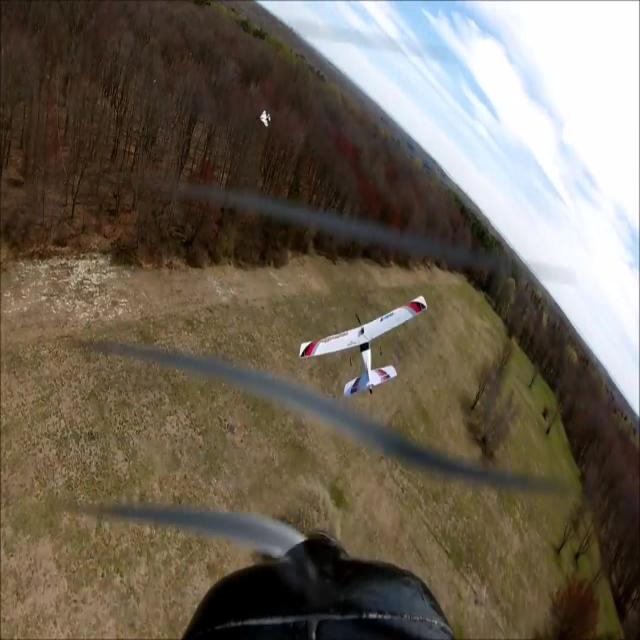iha: (299, 326, 428, 364)
